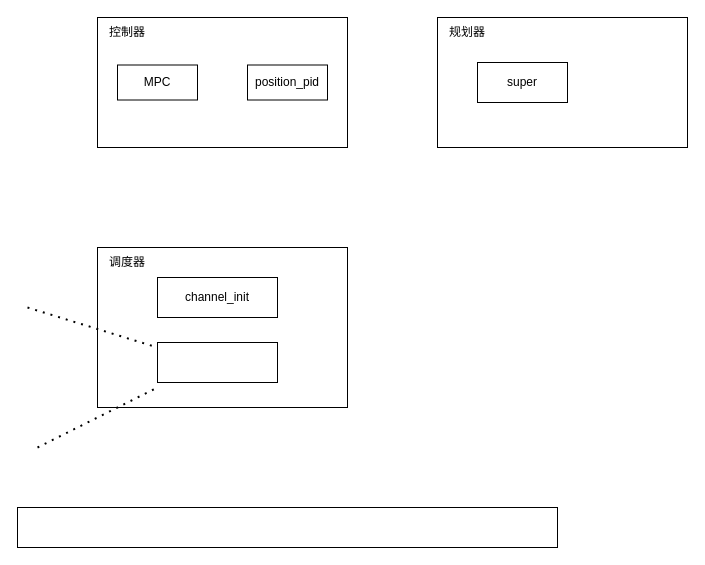
Some shapes in this 705 by 565 pixel diagram are drawn without their labels. The centre of each missing label's shape, as x and y in pixels:
"task_run" belongs at pixel 217 362.
"Usim" belongs at pixel 287 527.
